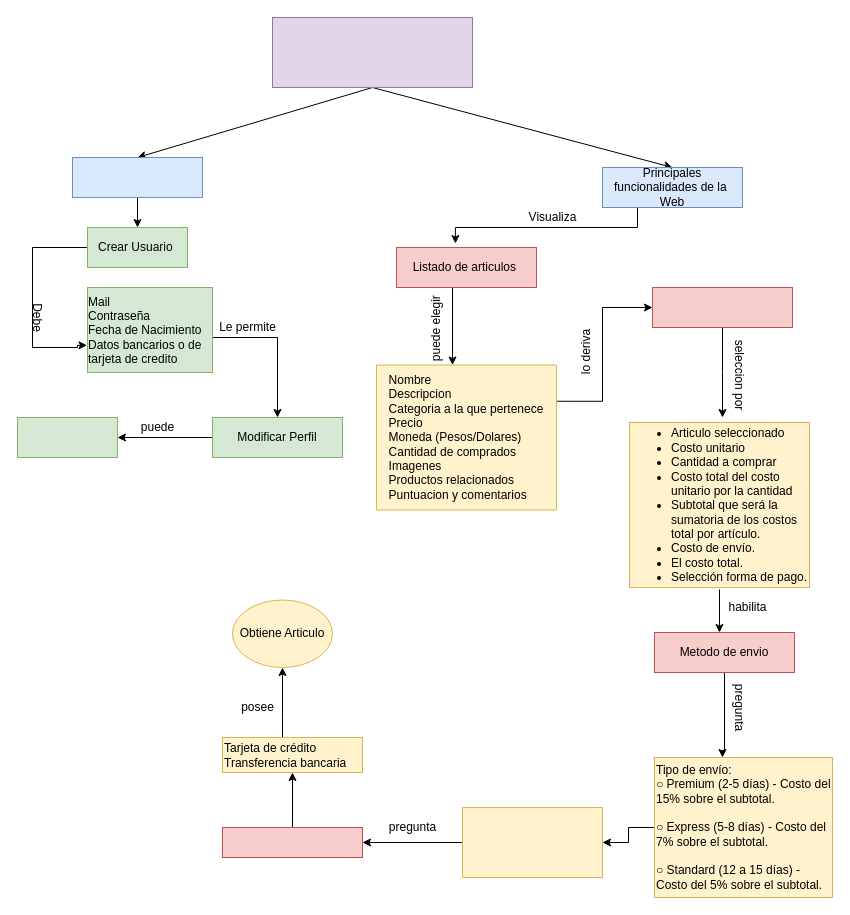
This 850x915 diagram has some shape labels left out. The shapes that lost their labels are listed below. From the top down, each one's centre as x and y in pixels, then its label:
At pixel 372 52: "e-Commerse Plataforma Web".
At pixel 137 177: "Funcionalidades del Usuario".
At pixel 722 307: "Carro de compras".
At pixel 67 437: "Ingreso/Salida".
At pixel 292 842: "Forma de pago".
At pixel 532 842: "País Dirección: calle, número, esquina.".
